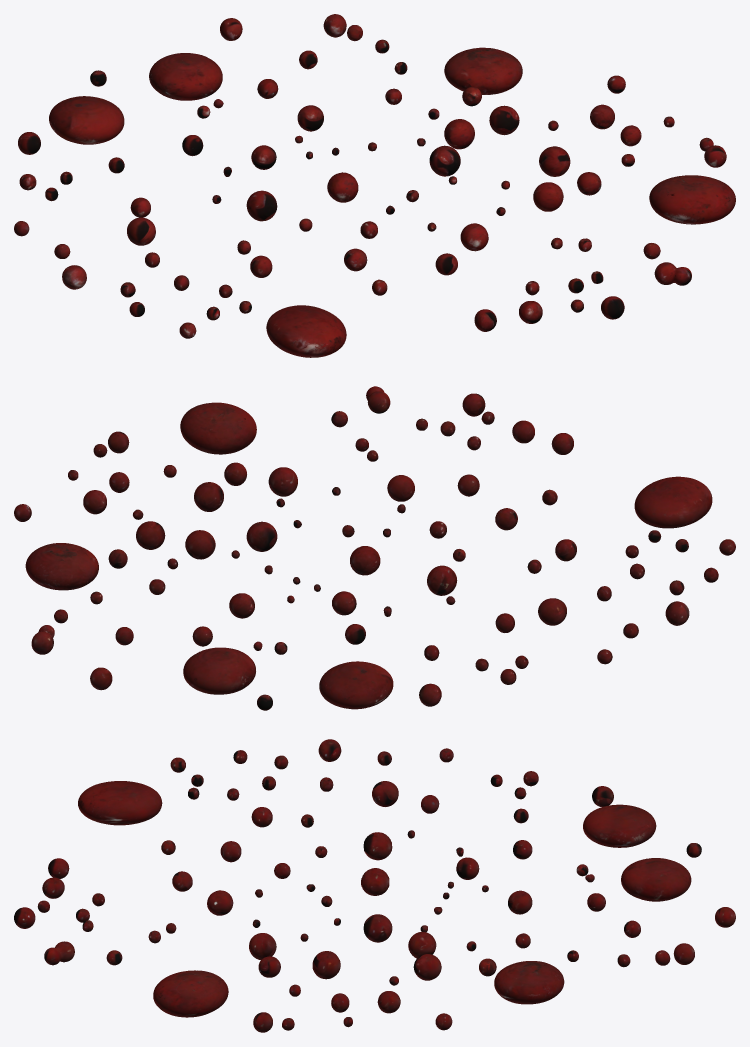
File: blood4.glb
3 renders of one model, top to bottom at view 1: azimuth 30°, elevation 25°; view 2: azimuth 150°, elevation 25°; view 3: azimuth 270°, elevation 25°, orthographic. The views are drawn at different scales.
Bounding box in the file's own units: 1.84 × 0.1022 × 2.
1 material, 1 textured.
